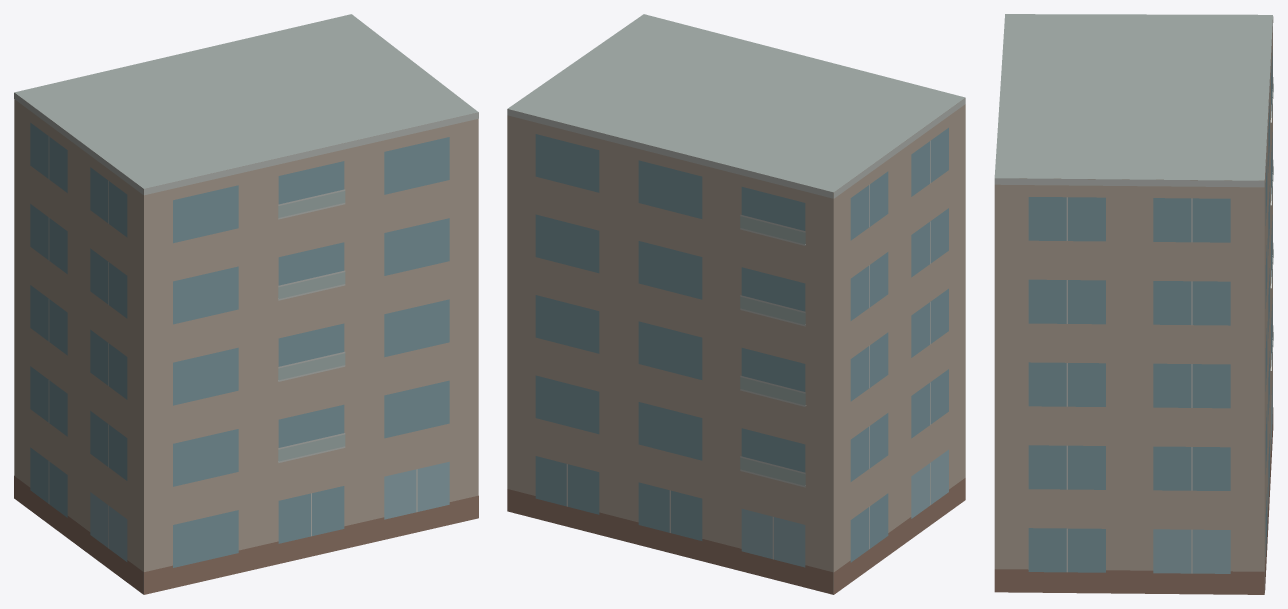
Rendered from survey-upis-32762529.glb.
3 views of the same model, side by side, from view 1: azimuth 30°, elevation 25°; view 2: azimuth 150°, elevation 25°; view 3: azimuth 270°, elevation 25° (orthographic). The views are drawn at different scales.
Parts seen in each view (by area): view 1: survey-upis-32762529.tmp; view 2: survey-upis-32762529.tmp; view 3: survey-upis-32762529.tmp.
Part boxes in pixels (bbox=[...]): survey-upis-32762529.tmp: bbox=[14, 14, 478, 594]; survey-upis-32762529.tmp: bbox=[507, 14, 965, 594]; survey-upis-32762529.tmp: bbox=[994, 14, 1273, 594].
Bounding box in the file's own units: 13.18 × 15.25 × 9.32.
